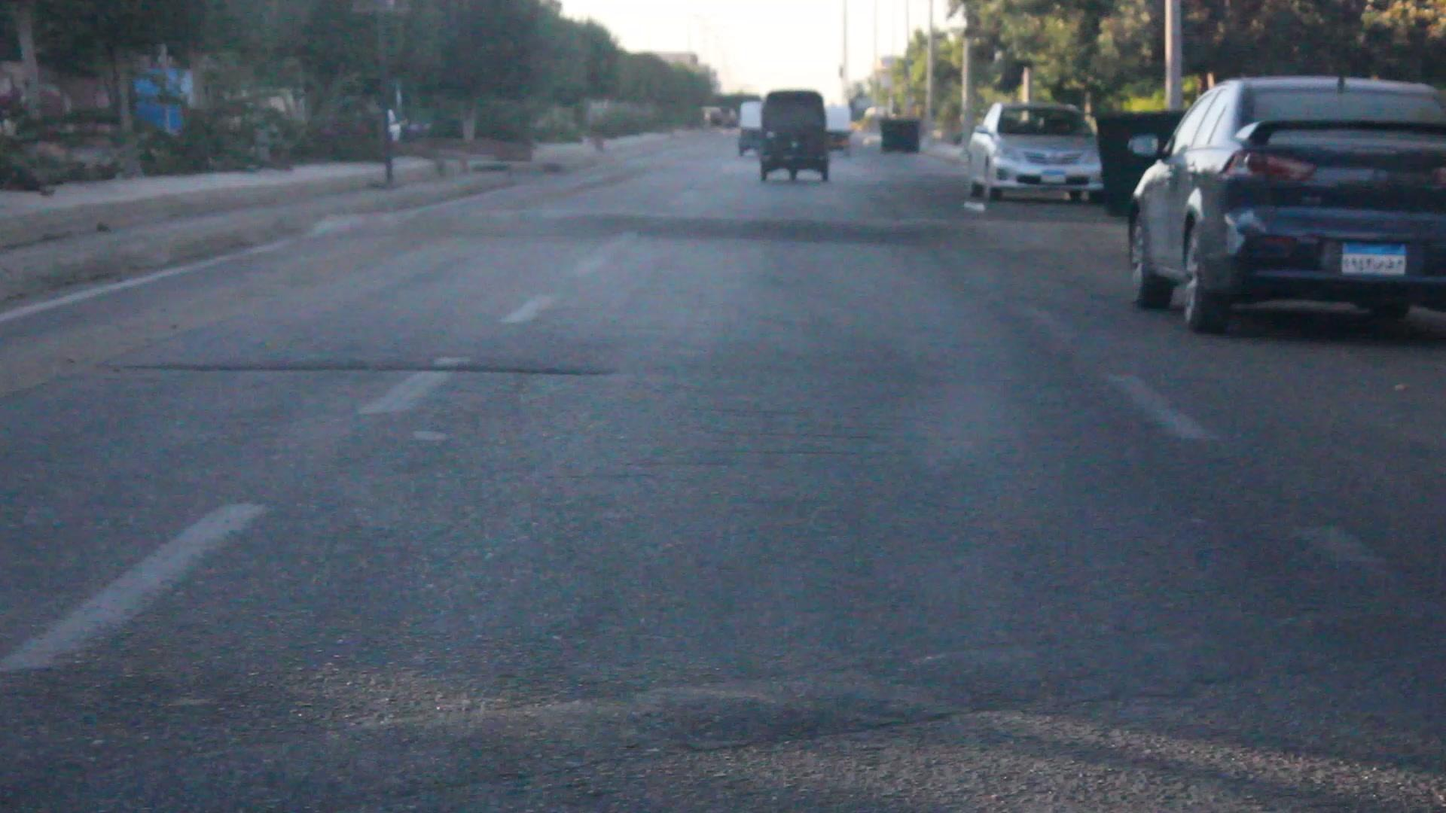Bump: (350, 199, 1105, 243)
